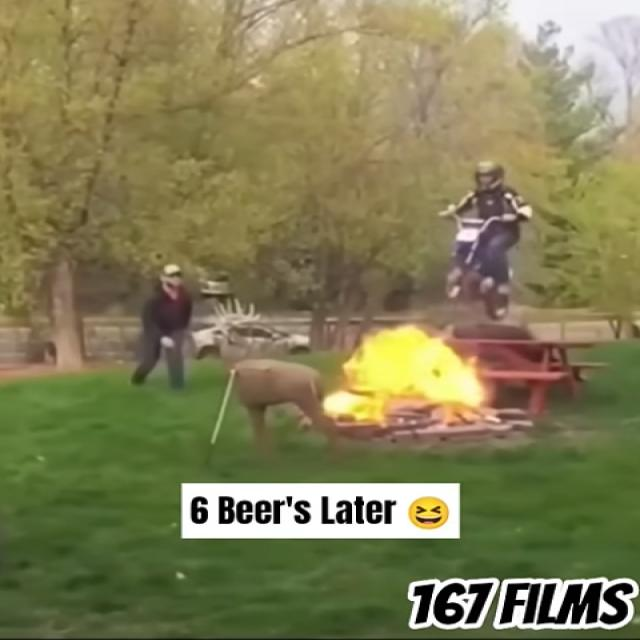fire: (323, 326, 484, 426)
